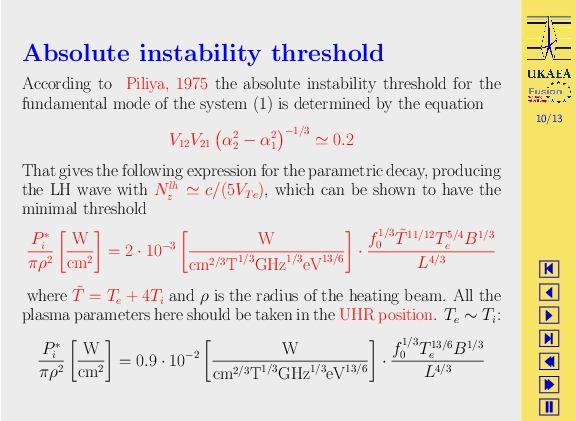paragraph: (13, 74, 527, 398)
title: (19, 28, 402, 68)
